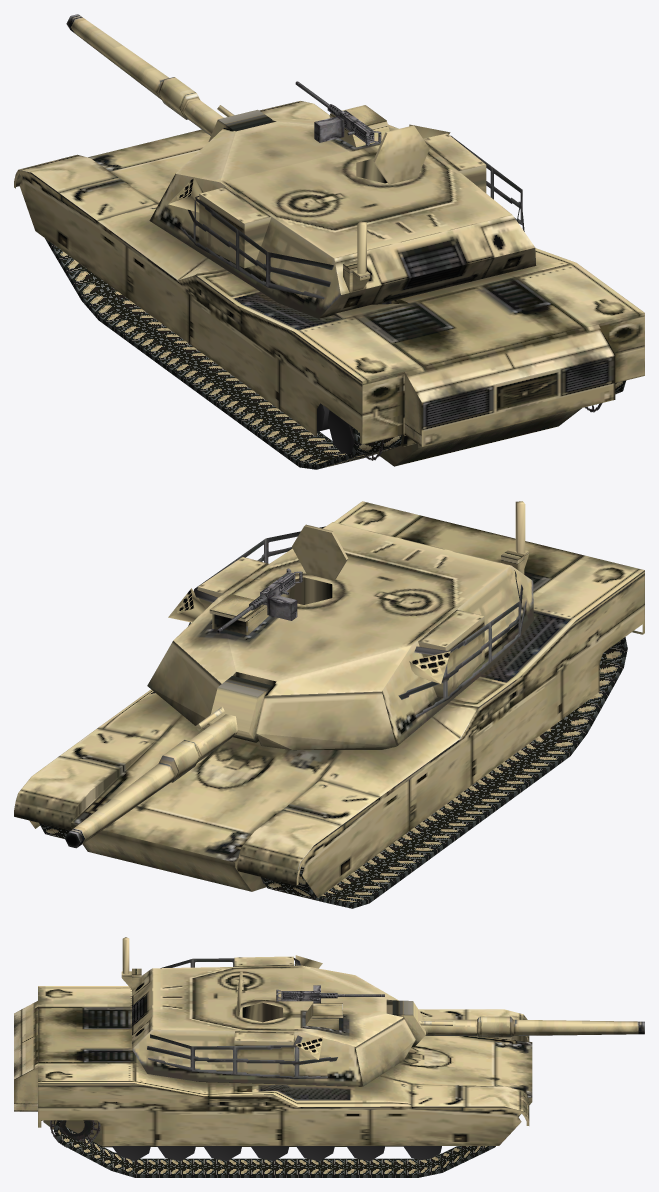
The model's file is VHABRAMSCAMO_M1A1.glb.
3 renders of one model, top to bottom at view 1: azimuth 30°, elevation 25°; view 2: azimuth 150°, elevation 25°; view 3: azimuth 270°, elevation 25°, orthographic. The views are drawn at different scales.
Visible parts, largest first — view 1: BODY, TURRET, VHABRAMS_TRACK_LEFT, VHABRAMS_MAIN_GUN, HATCH, SAS_LANDROVER_50CAL_MG, VHABRAMS_WHEEL01RIGHT; view 2: BODY, TURRET, VHABRAMS_TRACK_LEFT, VHABRAMS_MAIN_GUN, HATCH, SAS_LANDROVER_50CAL_MG; view 3: BODY, TURRET, VHABRAMS_TRACK_RIGHT, VHABRAMS_MAIN_GUN, VHABRAMS_WHEEL01LEFT (×7), SAS_LANDROVER_50CAL_MG, VHABRAMS_WHEEL02LEFT.
Part boxes in pixels (<box>): BODY: <box>14,101,644,466</box>; TURRET: <box>149,105,536,318</box>; VHABRAMS_TRACK_LEFT: <box>45,238,401,469</box>; VHABRAMS_MAIN_GUN: <box>66,14,272,141</box>; HATCH: <box>373,125,429,184</box>; SAS_LANDROVER_50CAL_MG: <box>295,81,381,145</box>; VHABRAMS_WHEEL01RIGHT: <box>327,410,354,454</box>; BODY: <box>14,501,644,897</box>; TURRET: <box>147,501,533,750</box>; VHABRAMS_TRACK_LEFT: <box>261,637,627,908</box>; VHABRAMS_MAIN_GUN: <box>65,676,272,848</box>; HATCH: <box>292,524,348,580</box>; SAS_LANDROVER_50CAL_MG: <box>216,568,302,633</box>; BODY: <box>14,986,532,1147</box>; TURRET: <box>121,937,415,1086</box>; VHABRAMS_TRACK_RIGHT: <box>54,1120,495,1177</box>; VHABRAMS_MAIN_GUN: <box>392,1000,644,1046</box>; VHABRAMS_WHEEL01LEFT (×7): <box>112,1146,441,1160</box>; SAS_LANDROVER_50CAL_MG: <box>276,985,384,1003</box>; VHABRAMS_WHEEL02LEFT: <box>49,1120,100,1147</box>.
Bounding box in the file's own units: 3.56 × 2.89 × 9.76.
Materials: 6 (6 with a texture image).
